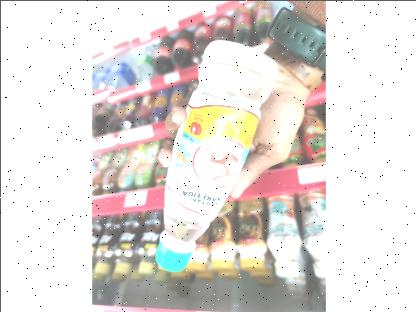Plastic Bottle: (150, 30, 280, 286)
